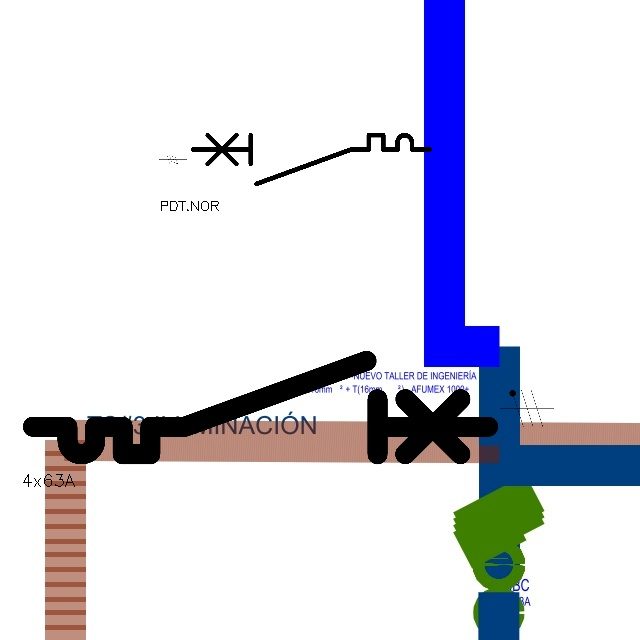interruptor_termomagnetico: (21, 349, 500, 466), (187, 129, 436, 190)
